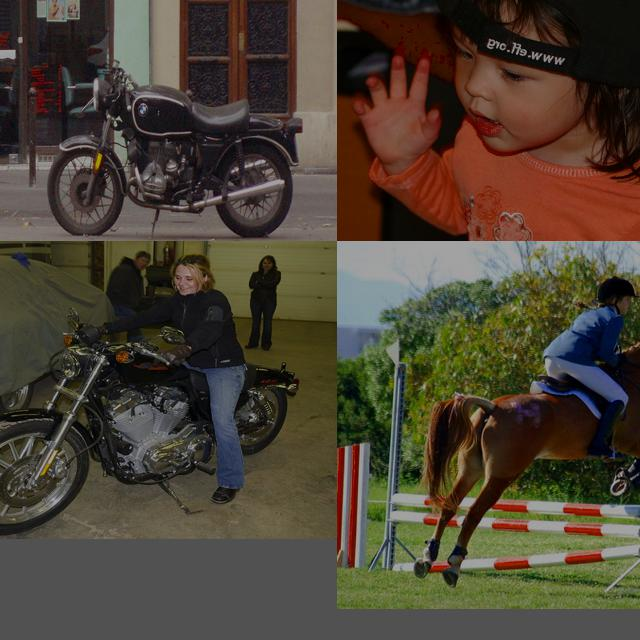car: (559, 512, 640, 551), (349, 498, 416, 540), (502, 511, 575, 542), (468, 505, 515, 537), (439, 509, 478, 532), (416, 508, 451, 530)
chair: (126, 345, 181, 377)
dog: (27, 37, 128, 155)
person: (0, 0, 235, 241)
sofa: (33, 344, 107, 371)
train: (546, 36, 597, 105)
